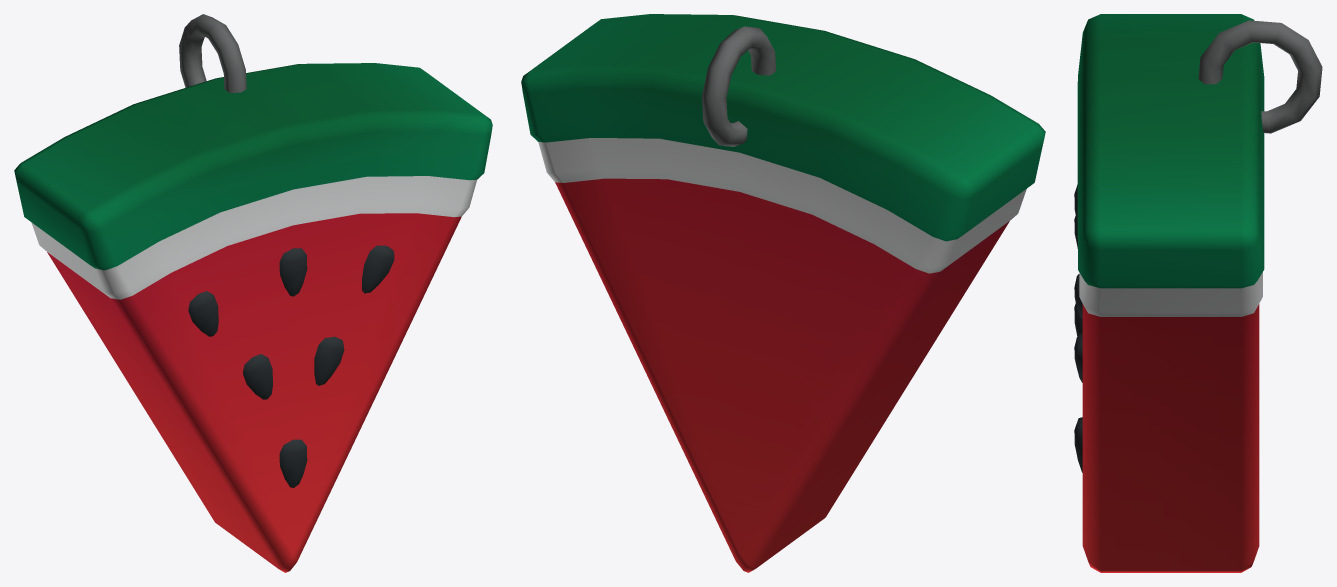
Rendered from Charm_21.fbx.
The picture shows the model from 3 angles, left to right: view 1: azimuth 30°, elevation 25°; view 2: azimuth 150°, elevation 25°; view 3: azimuth 270°, elevation 25°; orthographic projection. The views are drawn at different scales.
Parts seen in each view (by area): view 1: Charm_21; view 2: Charm_21; view 3: Charm_21.
Boxes of the visible parts, box(x1,y1,x2,y2) form: Charm_21: box(14, 14, 492, 572); Charm_21: box(521, 14, 1045, 572); Charm_21: box(1074, 14, 1322, 572).
Size of the model in its own units: 5.2 by 6.05 by 2.46.
